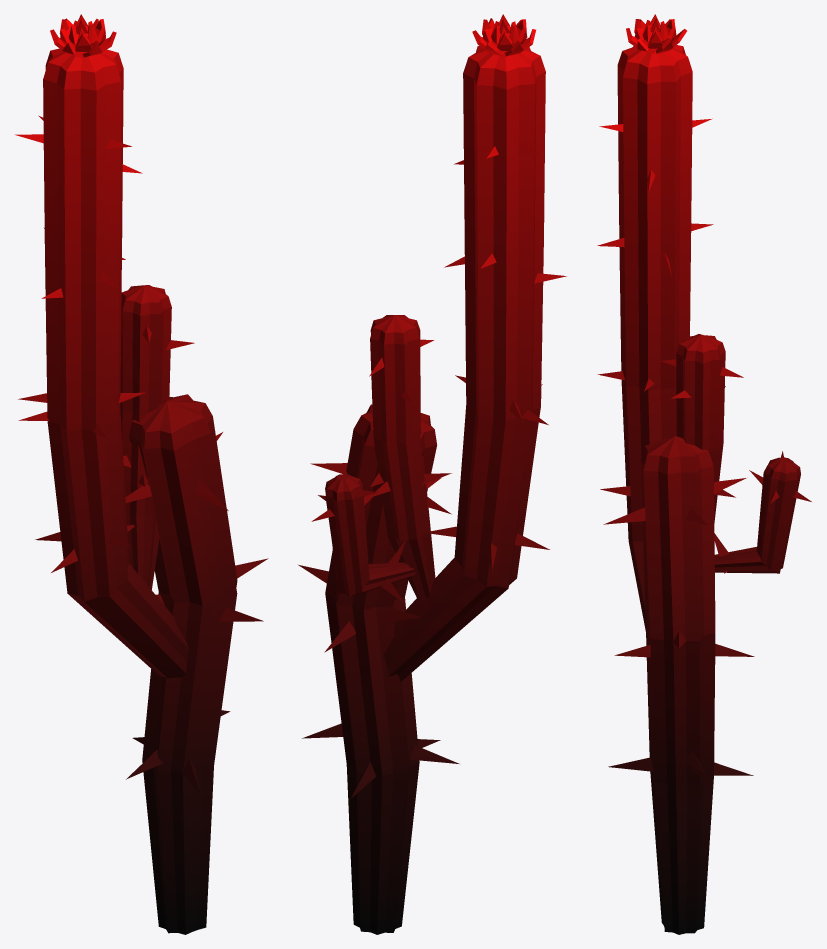
The model's file is TreeCactusTall05.fbx.
3 renders of one model, left to right at view 1: azimuth 30°, elevation 25°; view 2: azimuth 150°, elevation 25°; view 3: azimuth 270°, elevation 25°, orthographic. The views are drawn at different scales.
Parts seen in each view (by area): view 1: TreeCactusTall05_LOD0; view 2: TreeCactusTall05_LOD0; view 3: TreeCactusTall05_LOD0.
Boxes of the visible parts, left/top/right/bottom form: TreeCactusTall05_LOD0: left=15, top=14, right=268, bottom=934; TreeCactusTall05_LOD0: left=298, top=14, right=566, bottom=934; TreeCactusTall05_LOD0: left=597, top=14, right=811, bottom=934.
Size of what is drawn, in the model's own units: 102 by 360 by 82.84.
